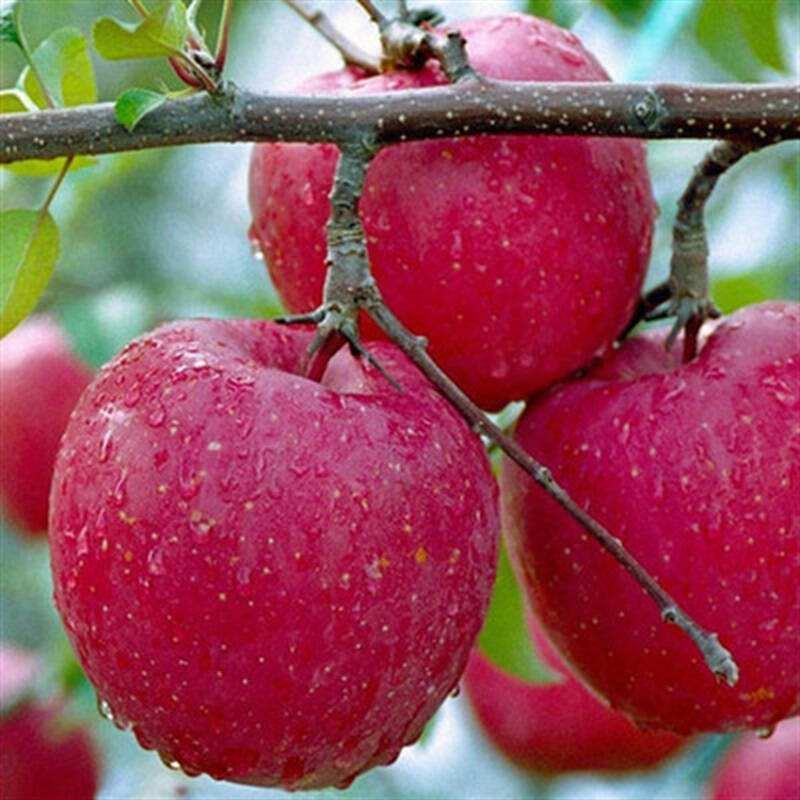apple: (50, 316, 506, 785), (246, 9, 656, 405), (504, 302, 800, 740)
